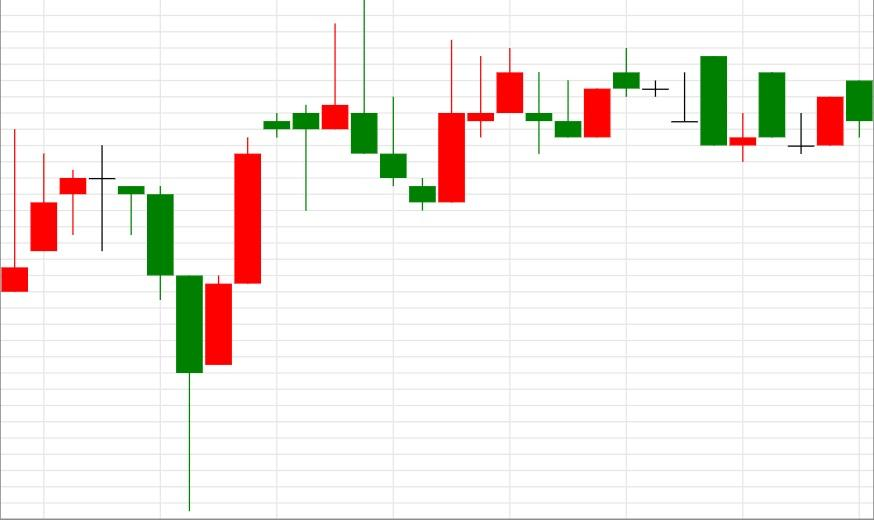inverse_hammer_rise: (496, 49, 582, 155)
shooting_star_fall: (176, 23, 350, 511)
